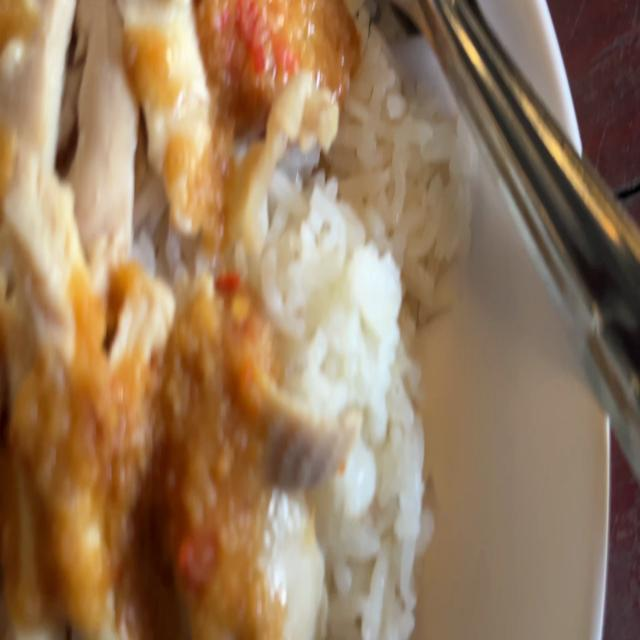chicken_rice: (0, 0, 340, 640)
